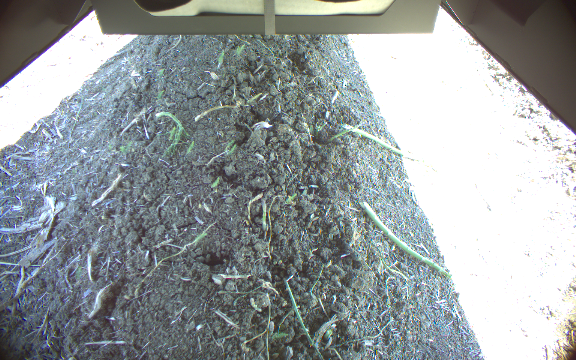aspa: (153, 109, 185, 133)
